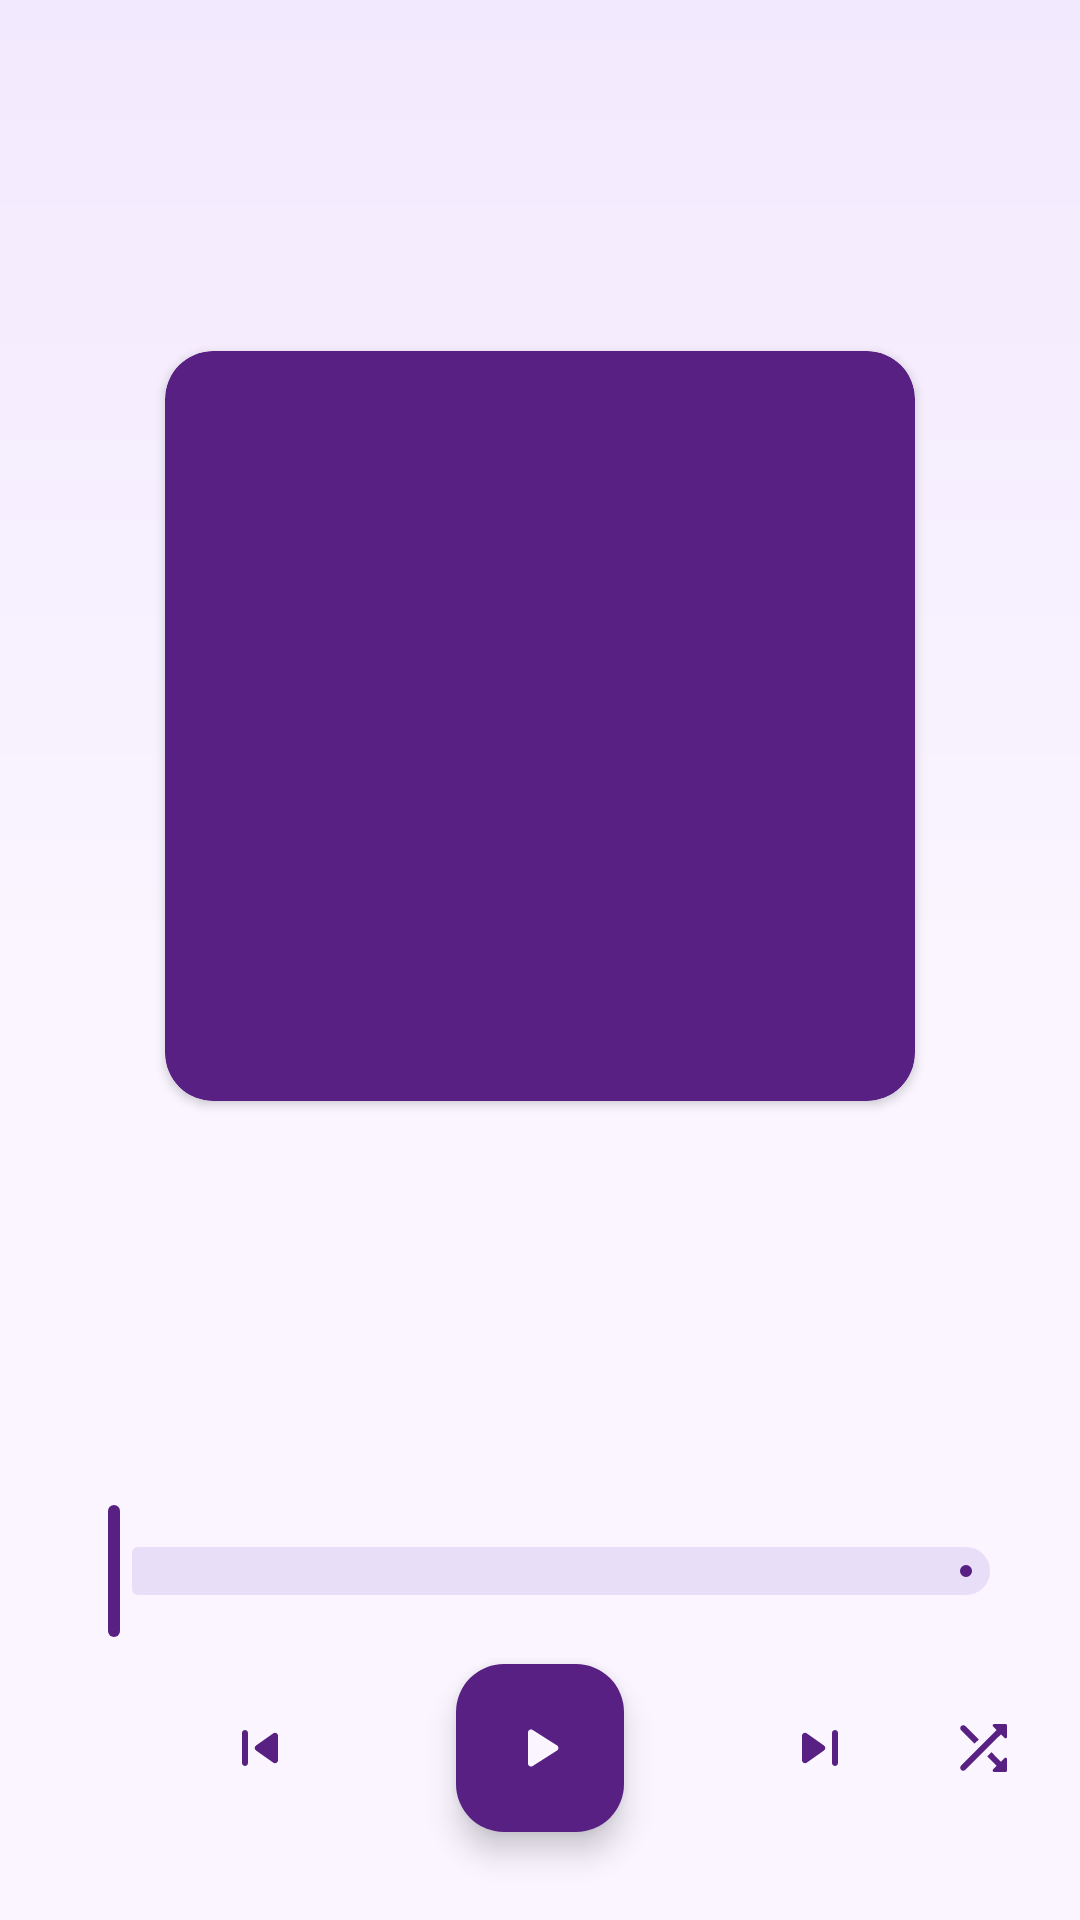

Point at icon controls on the screen. Image size 1080 x 1920, points as [x,y].
Forward: [820,1748]
Play/Pause Music player: [540,1748]
Rewind: [260,1748]
Shufl: [983,1748]
